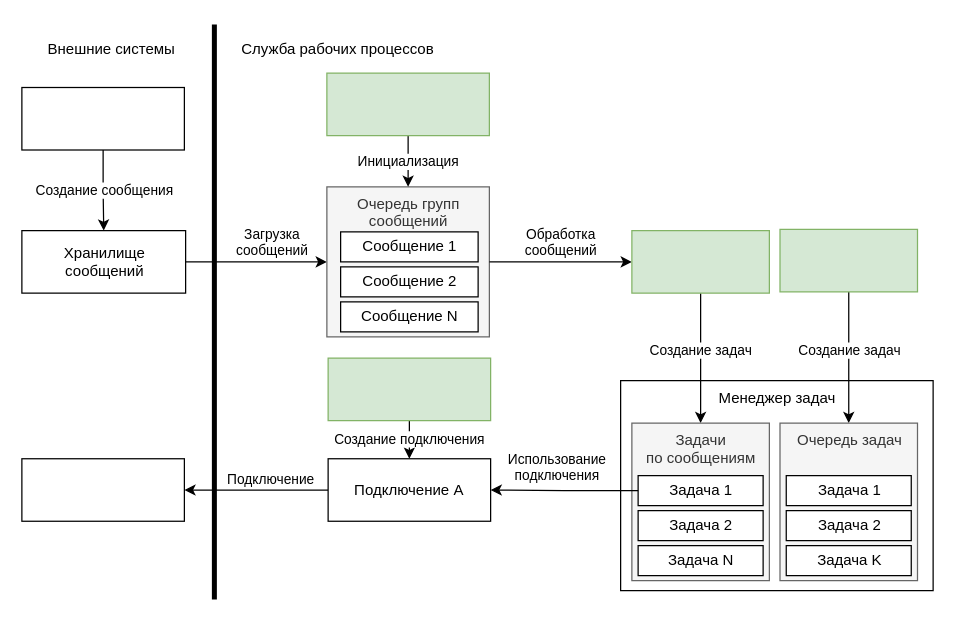
Image size: 955x623. Some labels were removed from this diagram. Each missing label, with the centre of its shape:
"Компонент" goes at pixel 848 260.
"Система A" goes at pixel 102 118.
"Система B" goes at pixel 102 489.
"Фабрика задач" goes at pixel 700 261.
"Фабрика очередей" goes at pixel 407 104.
"Фабрика подключений" goes at pixel 409 389.
